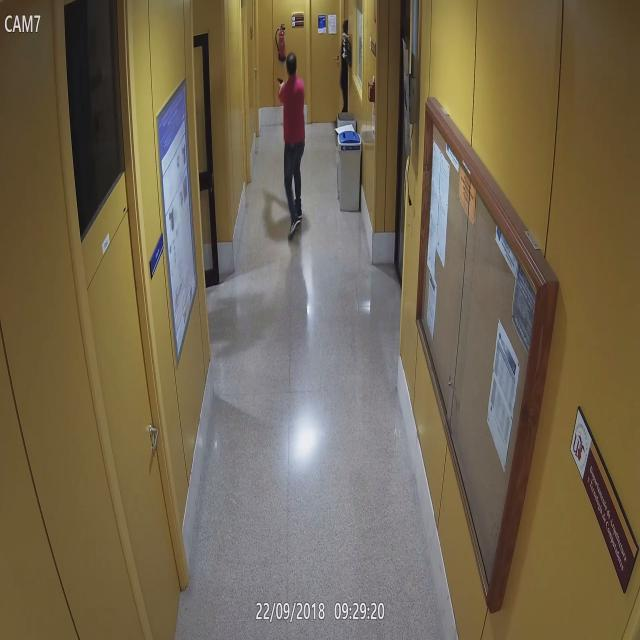Gun: (275, 74, 283, 85)
